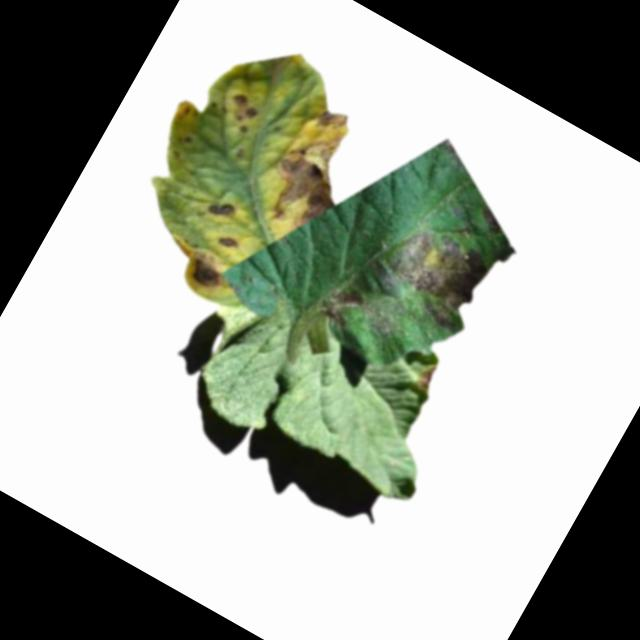Early_blight: (250, 95, 376, 243), (363, 212, 497, 338), (315, 279, 369, 333), (179, 252, 231, 300), (216, 90, 262, 138), (202, 194, 234, 224), (412, 361, 440, 395), (216, 233, 240, 254)
